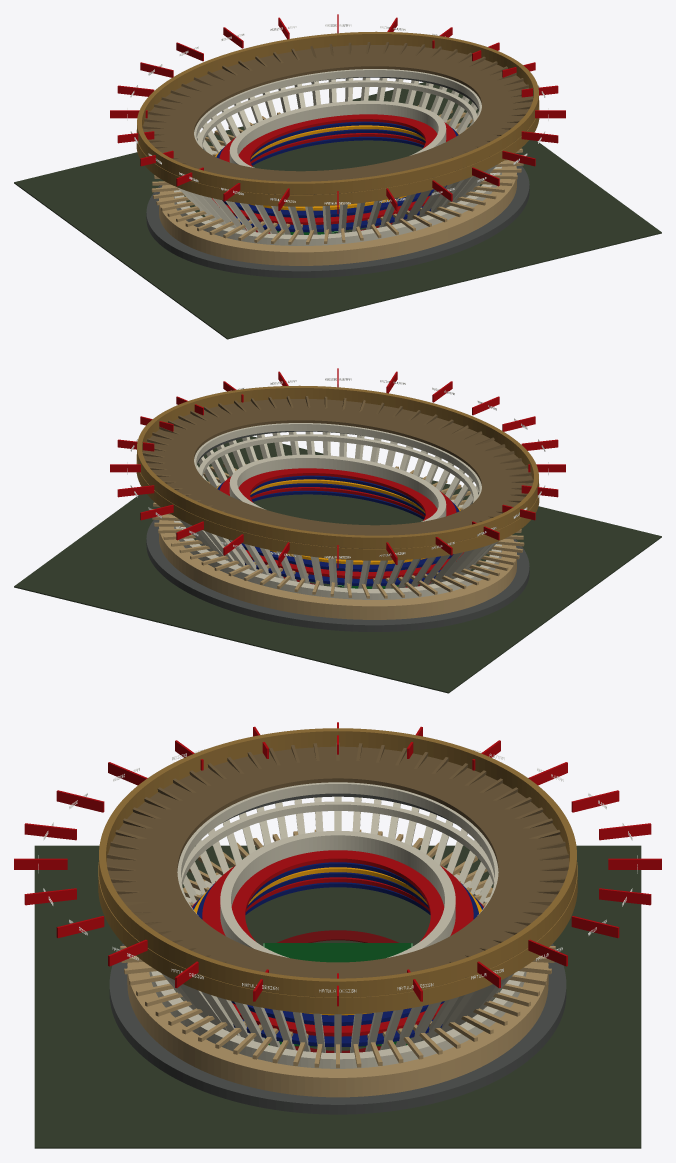
Rendered from StadeMartyrs.obj.
3 views of the same model, one above another, from view 1: azimuth 30°, elevation 25°; view 2: azimuth 150°, elevation 25°; view 3: azimuth 270°, elevation 25° (orthographic). The views are drawn at different scales.
Parts seen in each view (by area): view 1: Ground, Concrete_Light, Roof_Underside, Roof_Gold, Concrete_Warm, Concrete_Dark, Ad_Red, Seat_Red, Seat_Blue, Seat_Yellow, Text_White; view 2: Ground, Concrete_Light, Roof_Underside, Roof_Gold, Concrete_Warm, Concrete_Dark, Ad_Red, Seat_Red, Seat_Blue, Seat_Yellow, Text_White; view 3: Ground, Roof_Underside, Concrete_Light, Roof_Gold, Concrete_Warm, Concrete_Dark, Ad_Red, Seat_Red, Seat_Blue, Pitch_Green, Track_Red, Text_White (+1 smaller).
Part boxes in pixels (left/top/right/bottom): Ground: left=14, top=82, right=661, bottom=339; Concrete_Light: left=174, top=69, right=501, bottom=245; Roof_Underside: left=139, top=42, right=533, bottom=194; Roof_Gold: left=136, top=31, right=539, bottom=206; Concrete_Warm: left=151, top=105, right=523, bottom=265; Concrete_Dark: left=146, top=77, right=529, bottom=277; Ad_Red: left=110, top=14, right=565, bottom=214; Seat_Red: left=212, top=114, right=456, bottom=224; Seat_Blue: left=216, top=121, right=458, bottom=232; Seat_Yellow: left=215, top=125, right=459, bottom=210; Text_White: left=127, top=24, right=548, bottom=204; Ground: left=14, top=436, right=661, bottom=693; Concrete_Light: left=174, top=423, right=501, bottom=599; Roof_Underside: left=142, top=396, right=536, bottom=548; Roof_Gold: left=136, top=385, right=539, bottom=560; Concrete_Warm: left=152, top=459, right=524, bottom=619; Concrete_Dark: left=146, top=431, right=529, bottom=631; Ad_Red: left=110, top=368, right=565, bottom=568; Seat_Red: left=219, top=468, right=463, bottom=578; Seat_Blue: left=217, top=475, right=459, bottom=586; Seat_Yellow: left=216, top=479, right=460, bottom=564; Text_White: left=127, top=378, right=548, bottom=558; Ground: left=34, top=845, right=641, bottom=1148; Roof_Underside: left=99, top=742, right=575, bottom=997; Concrete_Light: left=149, top=782, right=526, bottom=1068; Roof_Gold: left=98, top=728, right=577, bottom=1014; Concrete_Warm: left=120, top=829, right=555, bottom=1097; Concrete_Dark: left=109, top=793, right=566, bottom=1114; Ad_Red: left=14, top=722, right=661, bottom=1006; Seat_Red: left=192, top=850, right=483, bottom=1036; Seat_Blue: left=192, top=862, right=483, bottom=1046; Pitch_Green: left=263, top=943, right=412, bottom=1046; Track_Red: left=277, top=930, right=398, bottom=1052; Text_White: left=38, top=749, right=637, bottom=992.
Size of the model in its own units: 200 by 44.25 by 182.
